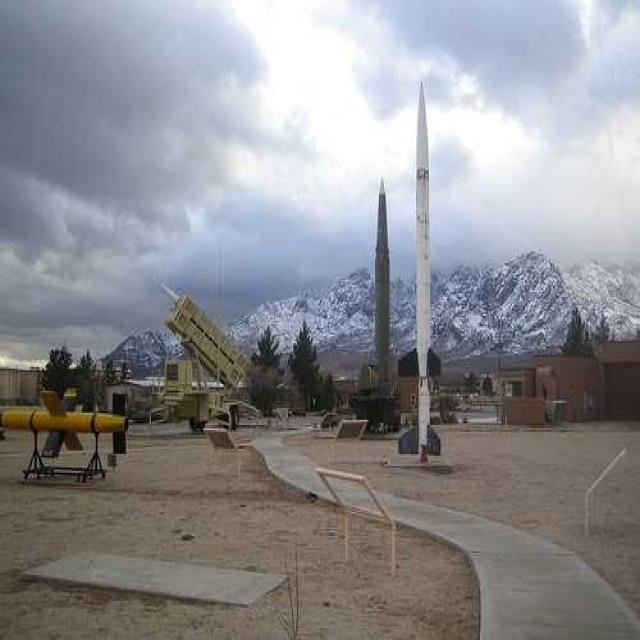missile: (395, 79, 447, 462), (0, 386, 127, 456), (367, 176, 397, 414)
